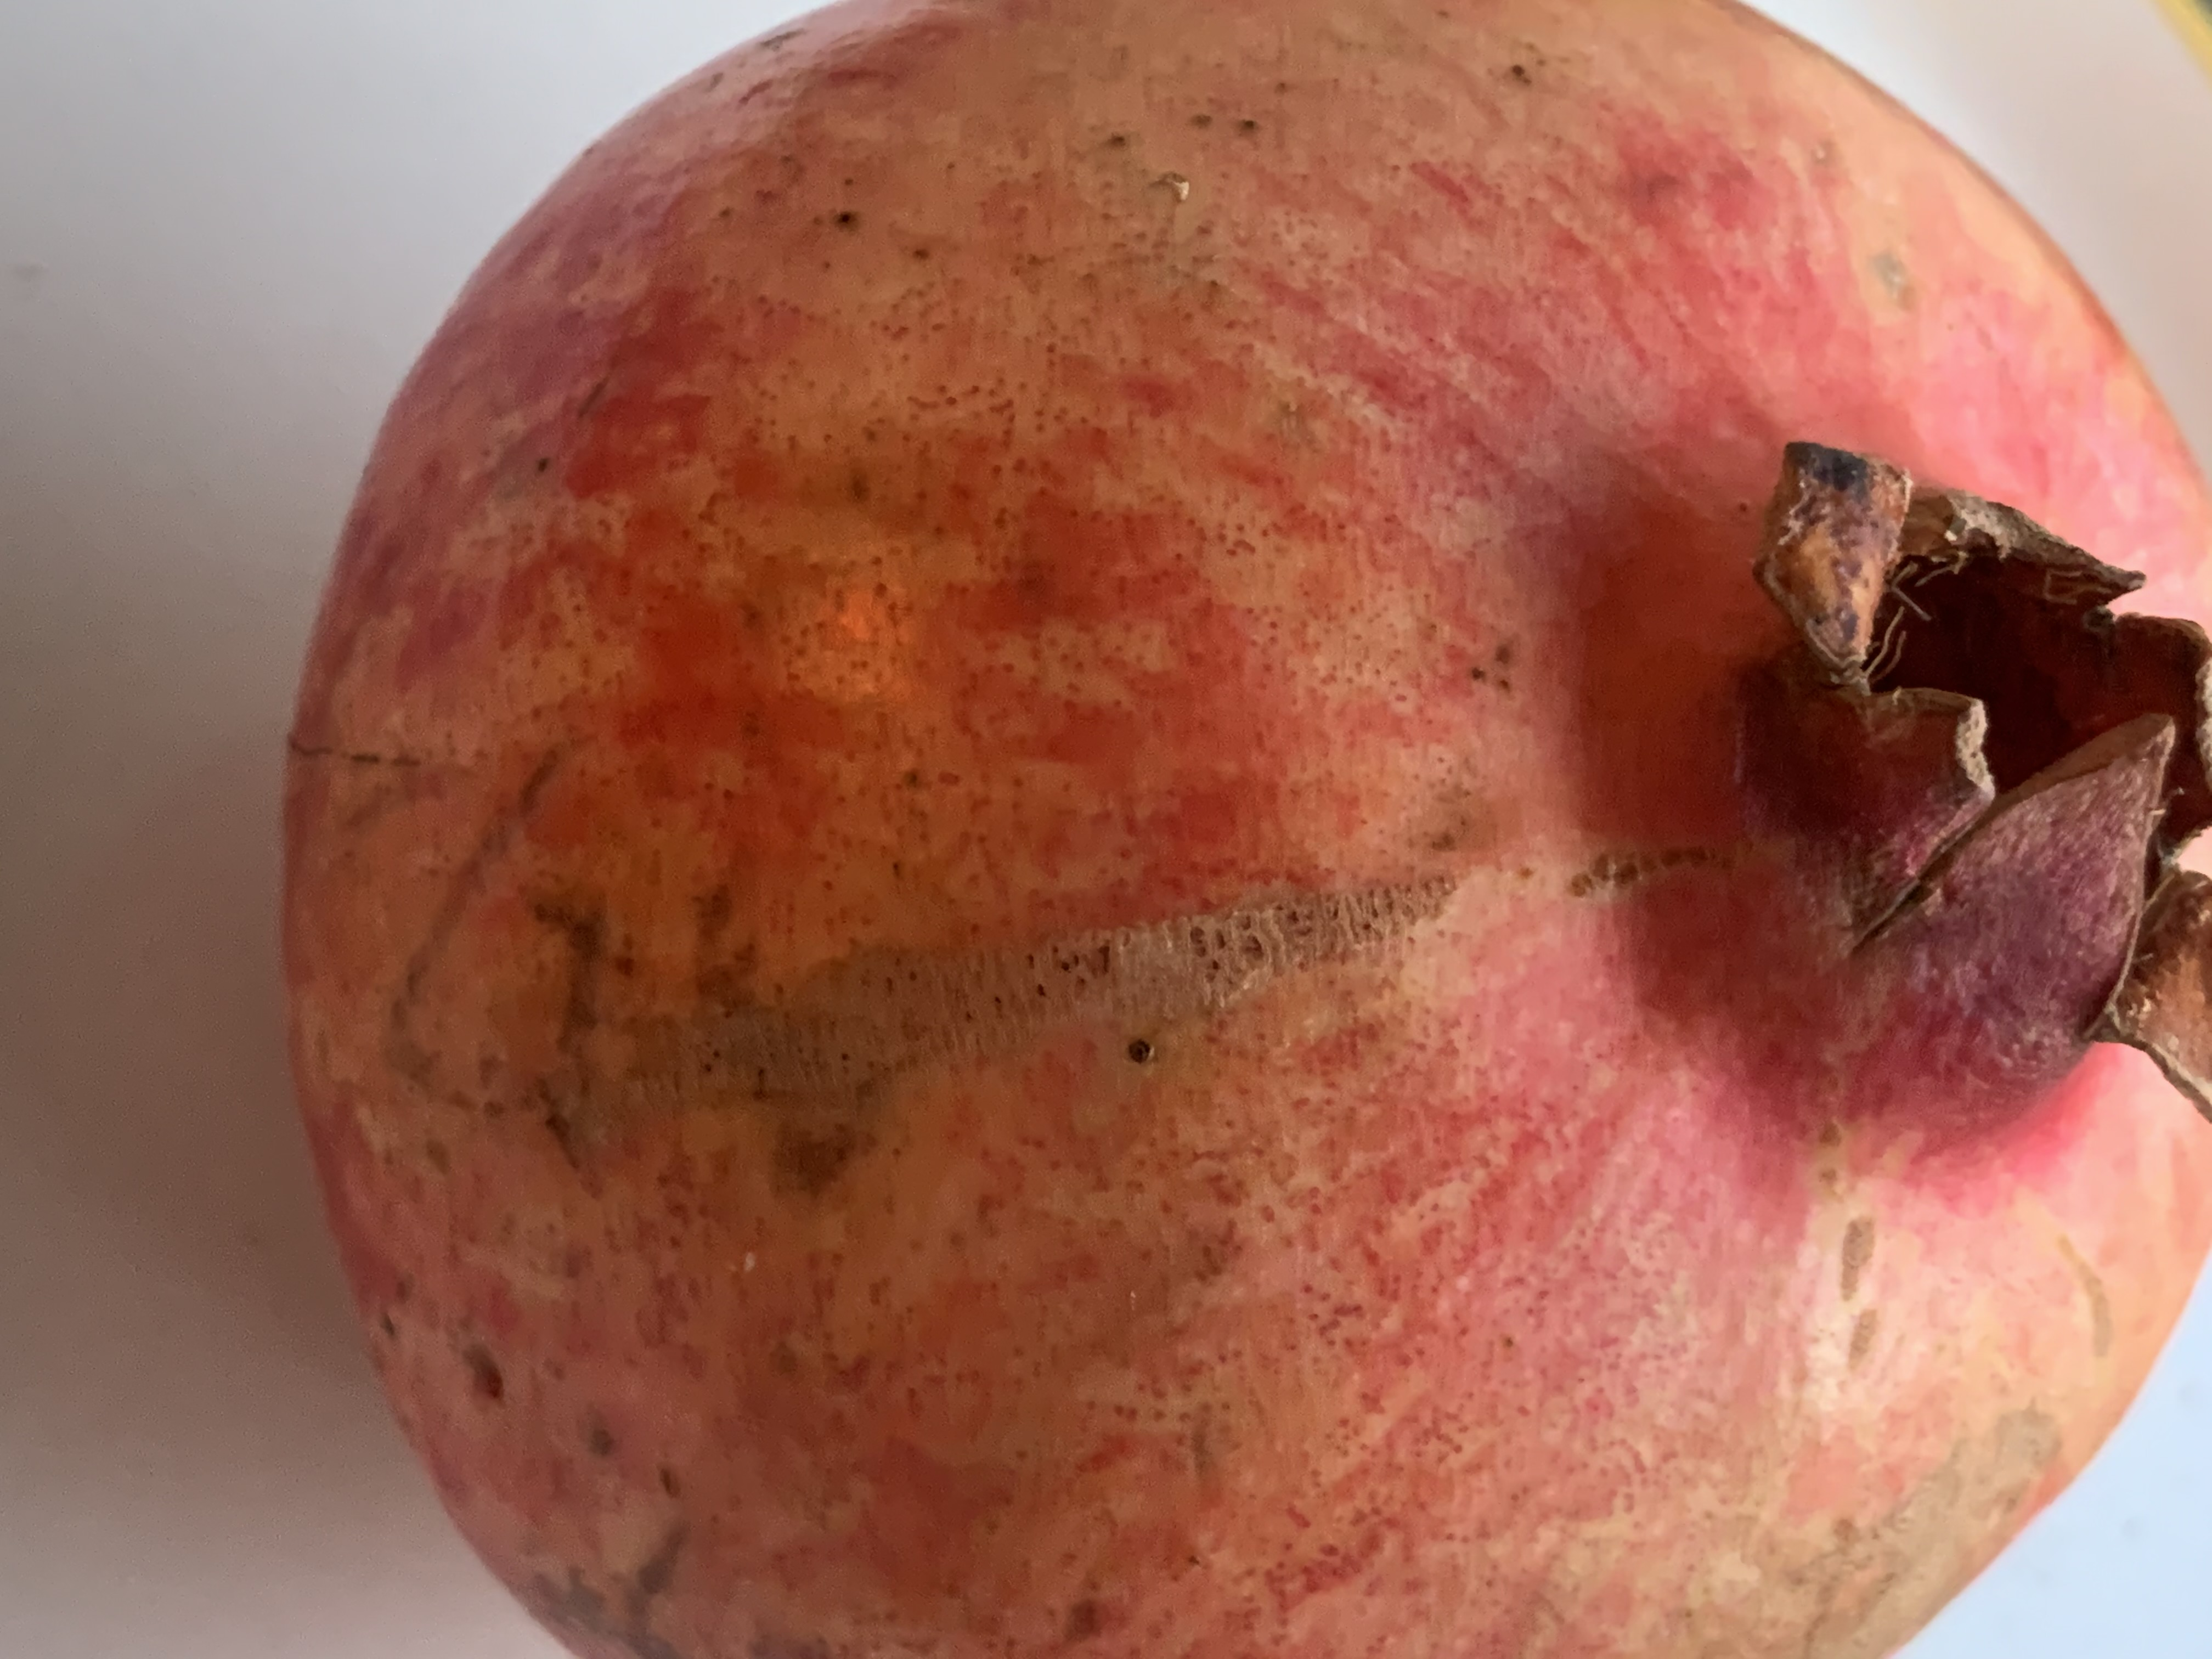Pomegranate: (282, 3, 2210, 1659)
